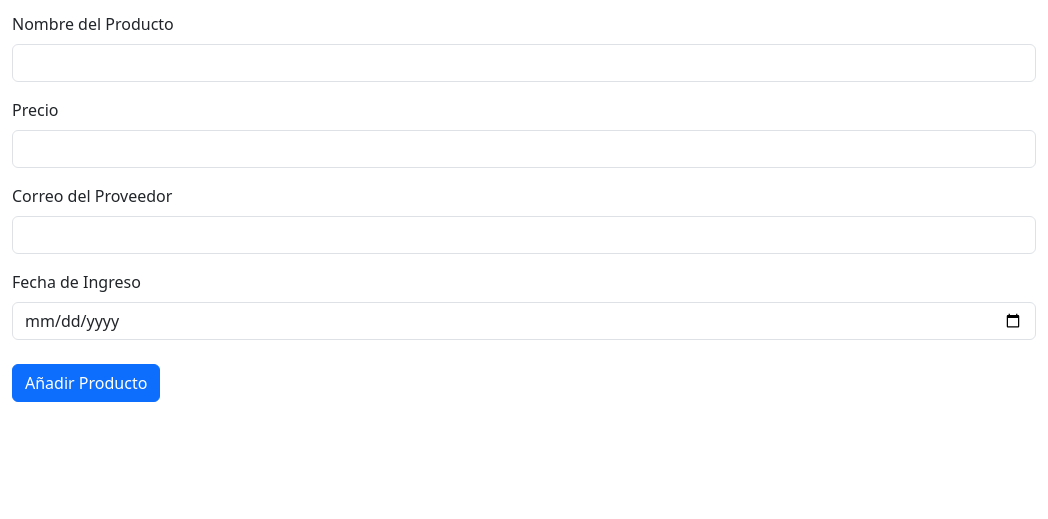
ProductForm › displays validation errors for empty fields
The width and height of the screenshot is (1048, 519).
What coordinates should you click on to do the following:
click the button "Añadir Producto"
I would click on:
 (86, 383)
Its box is top-left (12, 364), bottom-right (160, 402).
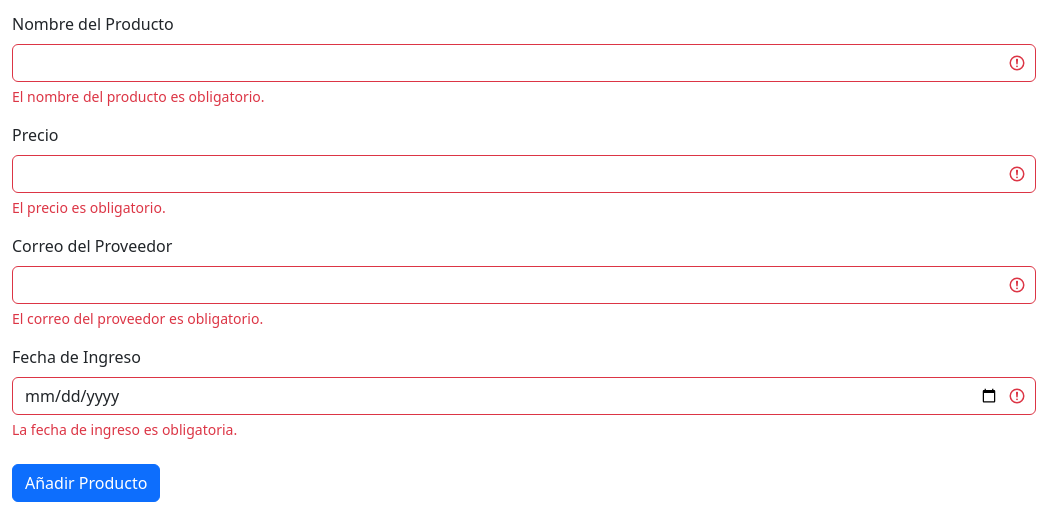
Expected: the text "El nombre del producto es obligatorio." is shown, top-left (12, 87), bottom-right (264, 106)
Expected: the text "El precio es obligatorio." is shown, top-left (12, 198), bottom-right (166, 217)
Expected: the text "El correo del proveedor es obligatorio." is shown, top-left (12, 309), bottom-right (263, 328)
